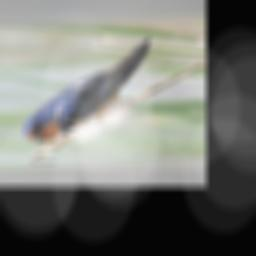Swallow: (20, 34, 151, 148)
